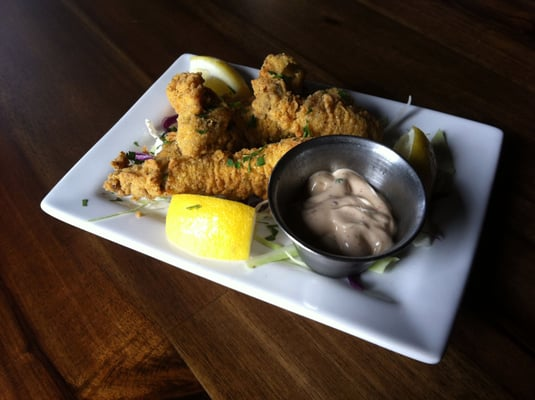sushi: (267, 134, 428, 279)
